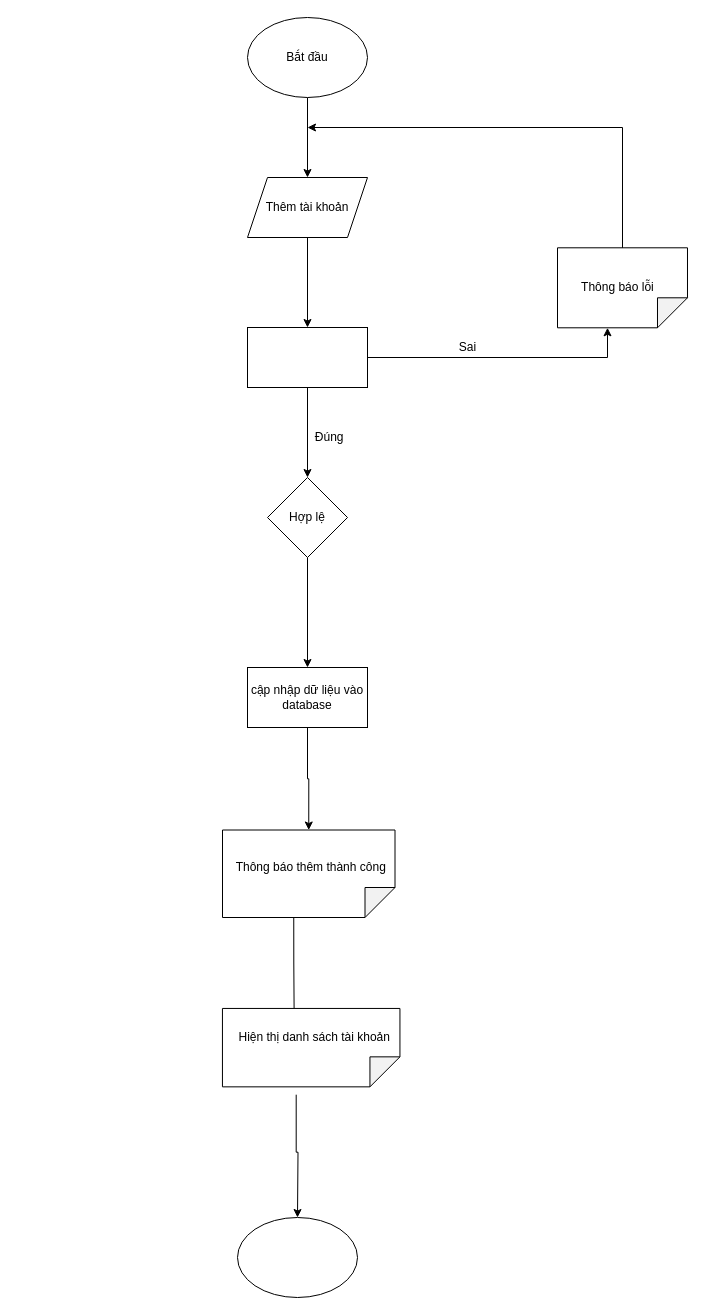
This 705x1315 diagram has some shape labels left out. The shapes that lost their labels are listed below. From the top down, each one's centre as x and y in pixels, then its label:
At point (307, 357): "Kiểm tra tính hợp lệ".
At point (297, 1257): "Kết thúc".
